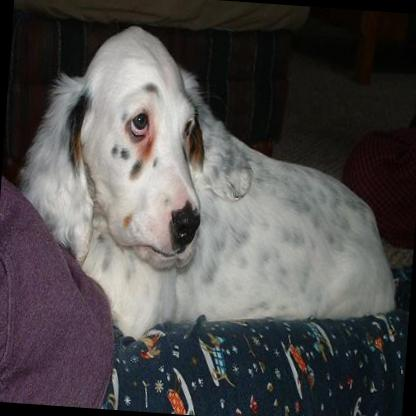English_setter: (6, 14, 413, 360)
